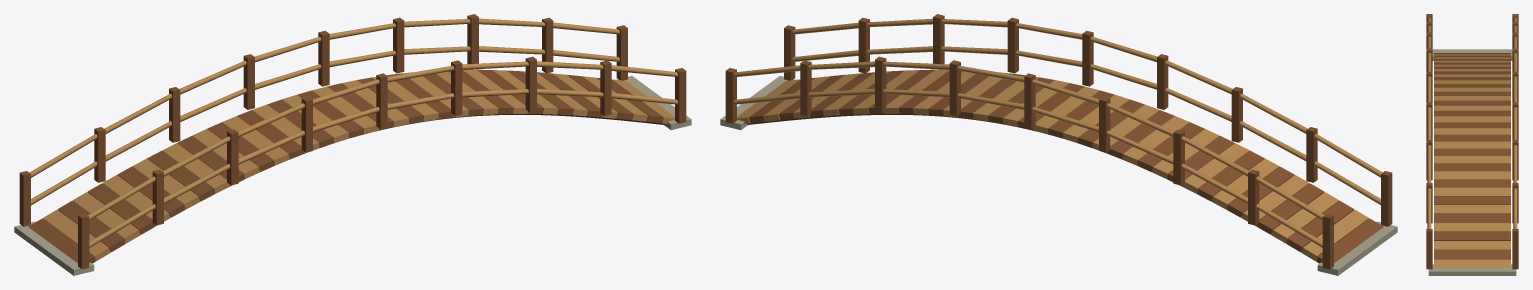
Rendered from LV_CAU_AO_SEN_01.glb.
3 views of the same model, side by side, from view 1: azimuth 30°, elevation 25°; view 2: azimuth 150°, elevation 25°; view 3: azimuth 270°, elevation 25° (orthographic). The views are drawn at different scales.
Parts seen in each view (by area): view 1: LV_CAU_AO_SEN_01-surface-b68850, LV_CAU_AO_SEN_01-surface-825331, LV_CAU_AO_SEN_01-surface-a8a28c, LV_CAU_AO_SEN_01-surface-50351f; view 2: LV_CAU_AO_SEN_01-surface-b68850, LV_CAU_AO_SEN_01-surface-825331, LV_CAU_AO_SEN_01-surface-a8a28c, LV_CAU_AO_SEN_01-surface-50351f; view 3: LV_CAU_AO_SEN_01-surface-825331, LV_CAU_AO_SEN_01-surface-b68850, LV_CAU_AO_SEN_01-surface-a8a28c.
Boxes of the visible parts, <box> form: LV_CAU_AO_SEN_01-surface-b68850: <box>29,18,678,260</box>; LV_CAU_AO_SEN_01-surface-825331: <box>19,14,686,269</box>; LV_CAU_AO_SEN_01-surface-a8a28c: <box>14,76,691,275</box>; LV_CAU_AO_SEN_01-surface-50351f: <box>362,114,664,134</box>; LV_CAU_AO_SEN_01-surface-b68850: <box>733,18,1382,260</box>; LV_CAU_AO_SEN_01-surface-825331: <box>725,14,1392,269</box>; LV_CAU_AO_SEN_01-surface-a8a28c: <box>720,76,1397,275</box>; LV_CAU_AO_SEN_01-surface-50351f: <box>747,114,1049,134</box>; LV_CAU_AO_SEN_01-surface-825331: <box>1426,14,1518,269</box>; LV_CAU_AO_SEN_01-surface-b68850: <box>1427,17,1517,267</box>; LV_CAU_AO_SEN_01-surface-a8a28c: <box>1428,49,1516,275</box>.
Bounding box in the file's own units: 12 × 2.37 × 2.1.
